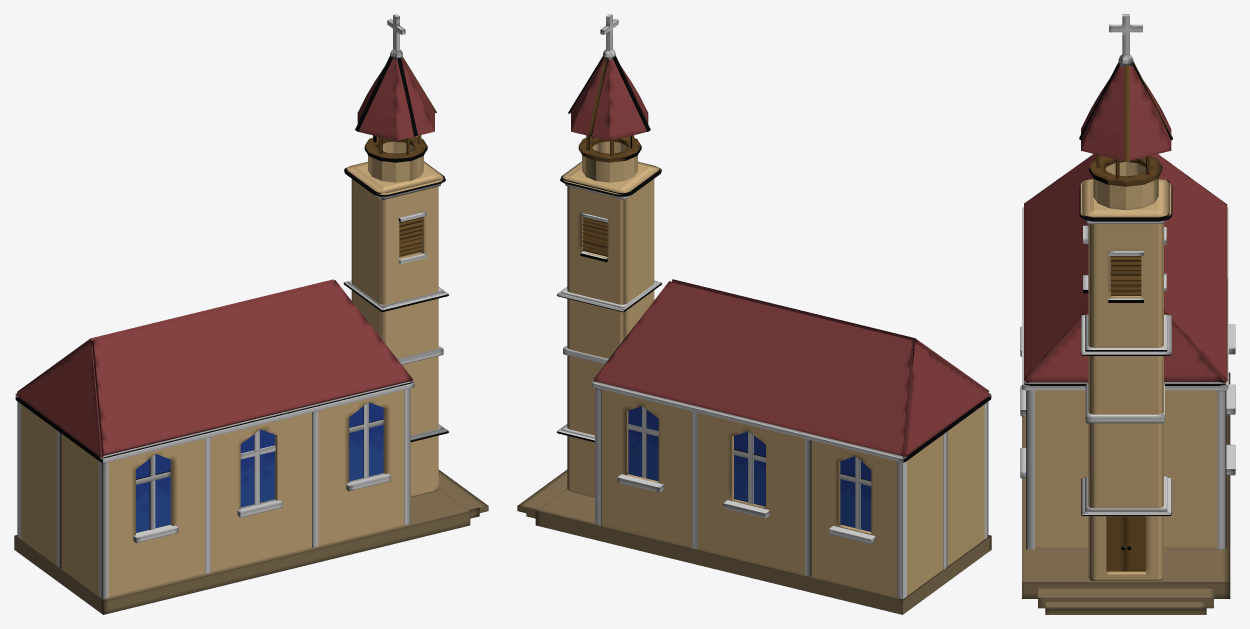
Rendered from mission_church.glb.
3 views of the same model, side by side, from view 1: azimuth 30°, elevation 25°; view 2: azimuth 150°, elevation 25°; view 3: azimuth 270°, elevation 25° (orthographic). The views are drawn at different scales.
Visible parts, largest first — view 1: Node; view 2: Node; view 3: Node.
Part boxes in pixels (x1,y1,x2,y2): Node: [14, 14, 488, 614]; Node: [517, 14, 991, 614]; Node: [1020, 14, 1235, 614].
Bounding box in the file's own units: 18.85 × 22 × 7.56.
1 material, 1 textured.
